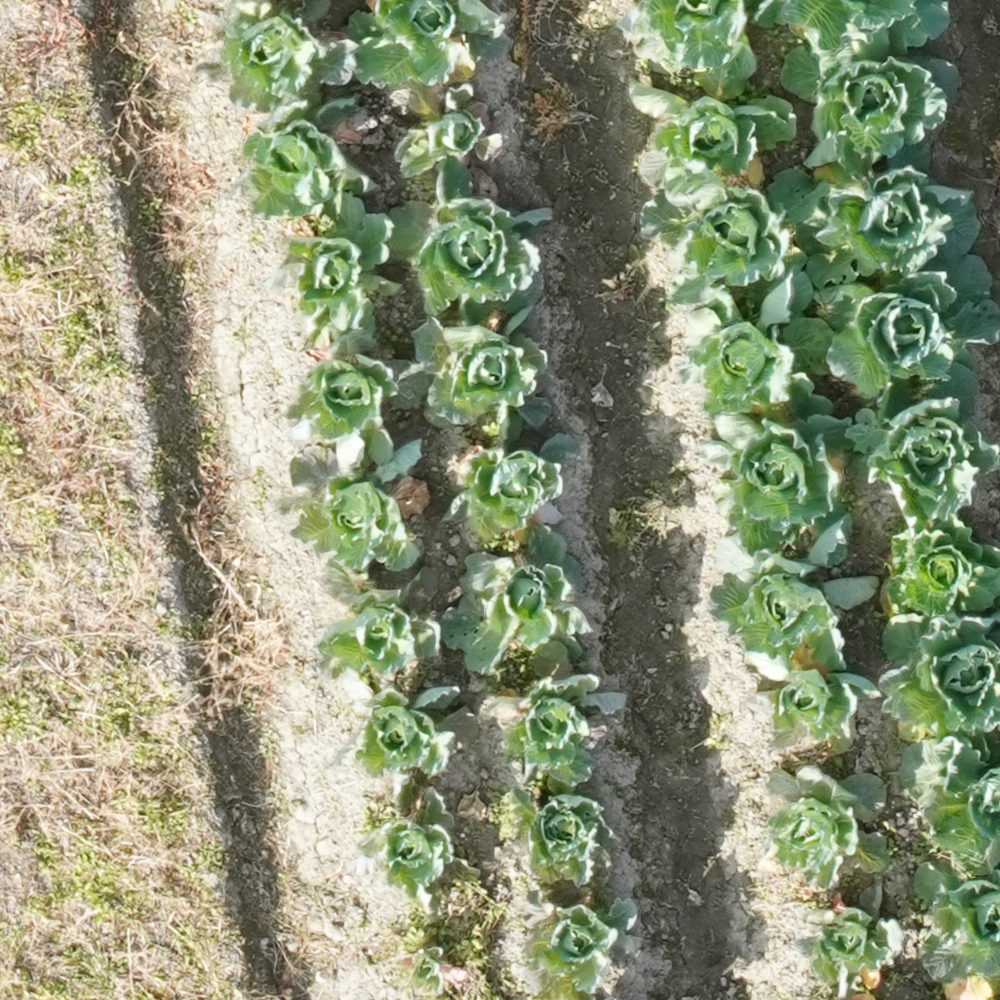Cabbage: (814, 254, 1000, 416), (707, 514, 880, 681), (385, 156, 553, 327), (640, 167, 829, 313), (780, 30, 958, 180), (665, 269, 833, 423), (438, 522, 596, 675), (794, 163, 981, 288), (698, 410, 852, 558), (629, 77, 797, 210), (291, 416, 431, 572), (479, 640, 627, 786), (845, 396, 1000, 535), (411, 304, 552, 445), (242, 90, 380, 222), (289, 191, 403, 350), (880, 610, 1000, 760), (356, 772, 481, 916), (282, 329, 430, 440), (764, 764, 892, 889), (889, 736, 1000, 877), (440, 434, 578, 547), (220, 0, 358, 112), (315, 559, 441, 680), (751, 1, 952, 75), (345, 1, 517, 87), (617, 1, 757, 100), (337, 670, 459, 781), (796, 879, 904, 1000), (509, 774, 618, 889), (880, 514, 1000, 617), (915, 860, 1000, 1000), (386, 80, 502, 176), (530, 898, 644, 995), (769, 670, 882, 755), (412, 947, 445, 998)
